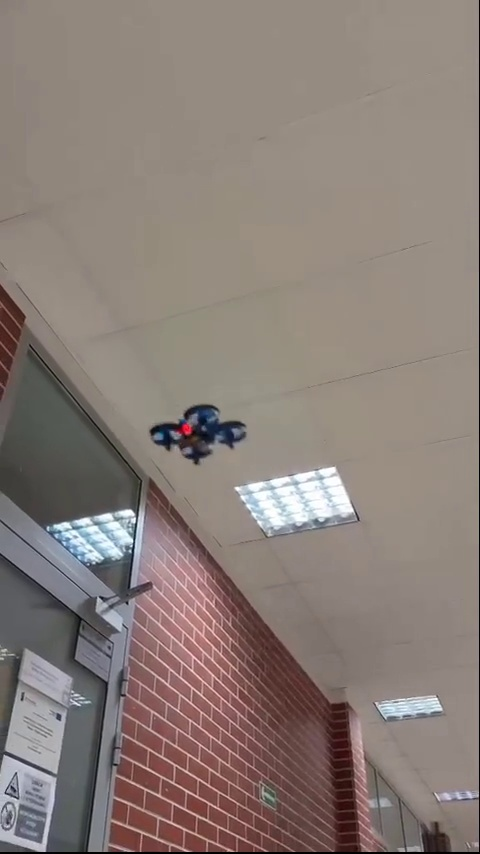drone: (149, 405, 248, 460)
